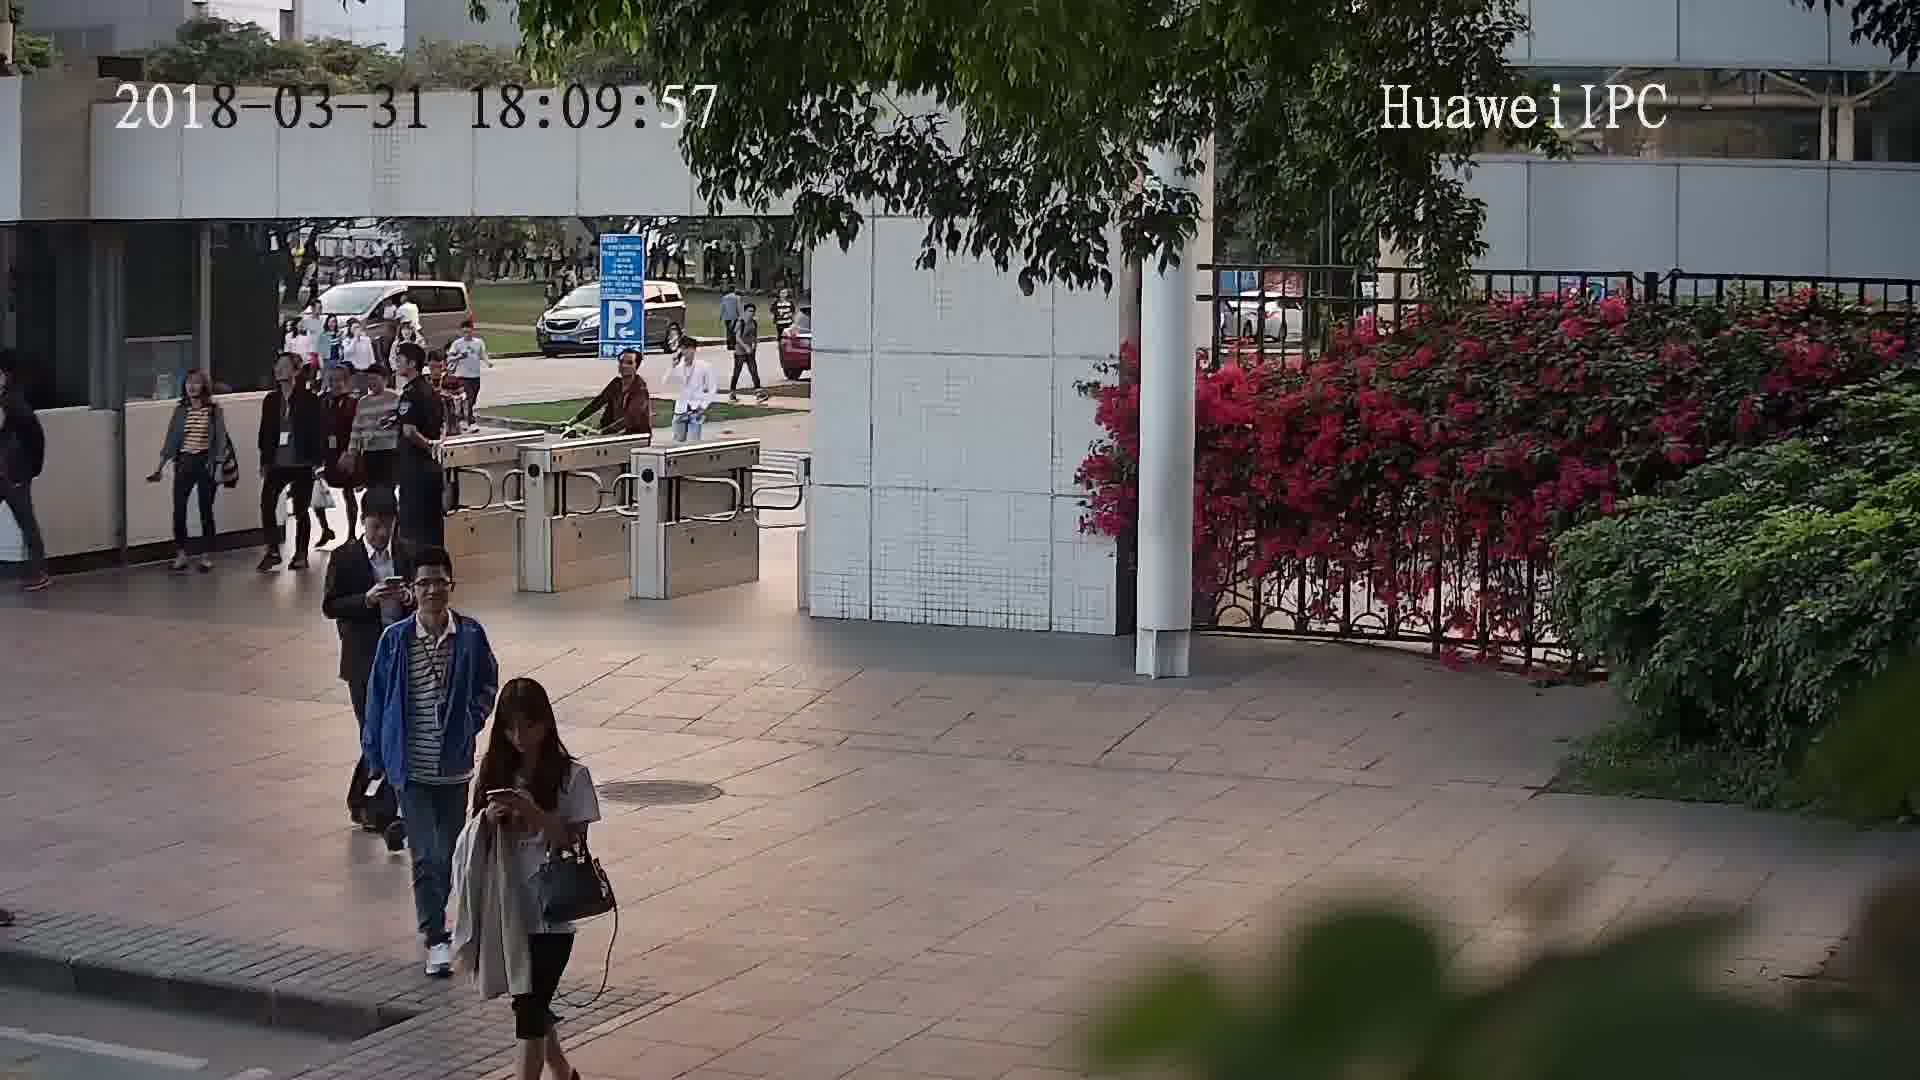face: (408, 566, 457, 615), (503, 708, 547, 752)
person: (376, 543, 487, 663), (477, 673, 587, 792), (331, 485, 407, 573), (259, 348, 313, 410), (167, 364, 223, 417), (392, 343, 437, 408), (422, 351, 474, 399), (351, 360, 394, 412), (320, 359, 360, 414), (1, 349, 34, 410), (607, 347, 650, 390), (671, 335, 713, 375), (449, 316, 483, 350), (342, 316, 374, 350), (282, 315, 317, 347), (389, 290, 419, 316), (726, 281, 751, 308), (735, 301, 759, 327), (772, 280, 794, 301)
